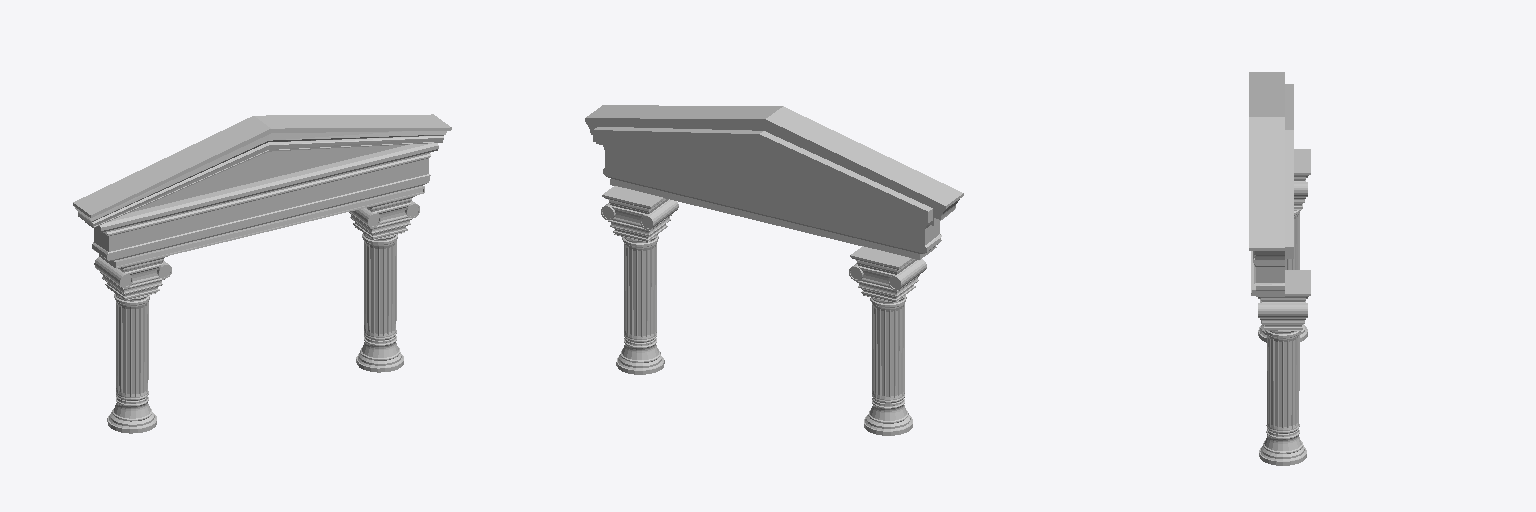
File: WOH_Asset_Pillar.obj
3 renders of one model, left to right at view 1: azimuth 30°, elevation 25°; view 2: azimuth 150°, elevation 25°; view 3: azimuth 270°, elevation 25°, orthographic.
Visible parts, largest first — view 1: pCube3, pCylinder7, pCube4, pCube5; view 2: pCylinder7, pCube3, pCube5, pCube4; view 3: pCylinder7, pCube4, pCube5, pCube3.
Part boxes in pixels (x1,y1,x2,y2): pCube3: (85, 143, 438, 268); pCylinder7: (94, 195, 419, 433); pCube4: (73, 114, 451, 227); pCube5: (129, 144, 409, 212); pCylinder7: (601, 186, 926, 435); pCube3: (596, 143, 948, 259); pCube5: (593, 127, 932, 222); pCube4: (585, 105, 963, 219); pCylinder7: (1258, 149, 1310, 465); pCube4: (1249, 72, 1284, 260); pCube5: (1285, 84, 1293, 258); pCube3: (1251, 251, 1284, 296).
Size of the model in its own units: 14.07 by 10.32 by 2.06.